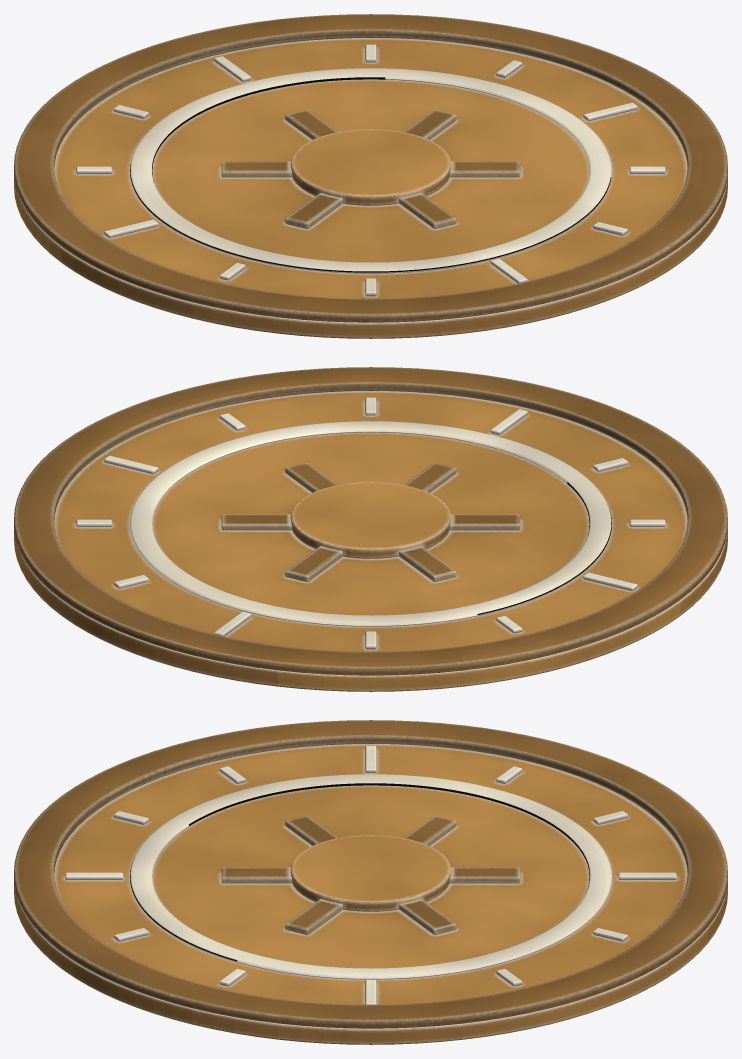
File: CR_Plate.glb
3 views of the same model, one above another, from view 1: azimuth 30°, elevation 25°; view 2: azimuth 150°, elevation 25°; view 3: azimuth 270°, elevation 25° (orthographic).
Parts seen in each view (by area): view 1: CR_Plate; view 2: CR_Plate; view 3: CR_Plate.
Boxes of the visible parts, left/top/right/bottom form: CR_Plate: left=14, top=14, right=727, bottom=338; CR_Plate: left=14, top=367, right=727, bottom=691; CR_Plate: left=14, top=720, right=727, bottom=1044.
Bounding box in the file's own units: 3.2 × 0.13 × 3.2.
3 materials, 3 textured.
